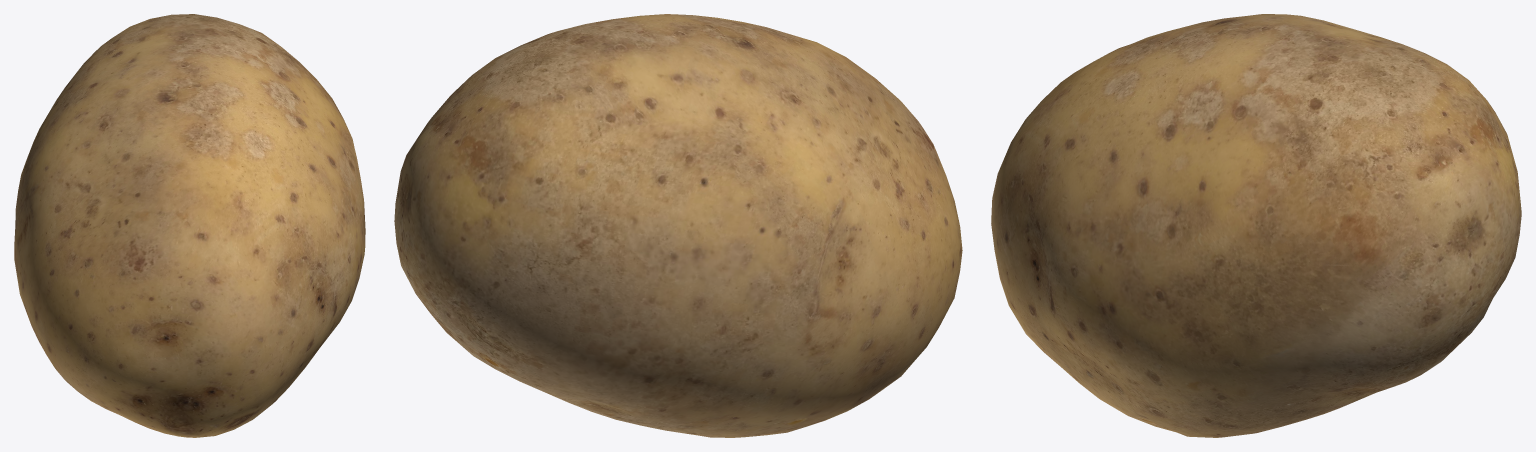
File: potato.fbx
3 views of the same model, side by side, from view 1: azimuth 30°, elevation 25°; view 2: azimuth 150°, elevation 25°; view 3: azimuth 270°, elevation 25° (orthographic). The views are drawn at different scales.
Parts seen in each view (by area): view 1: low poly; view 2: low poly; view 3: low poly.
Boxes of the visible parts, <box> form: low poly: <box>14,14,365,437</box>; low poly: <box>394,14,962,437</box>; low poly: <box>991,14,1521,437</box>.
Bounding box in the file's own units: 362 × 332 × 394.
1 material, 1 textured.
